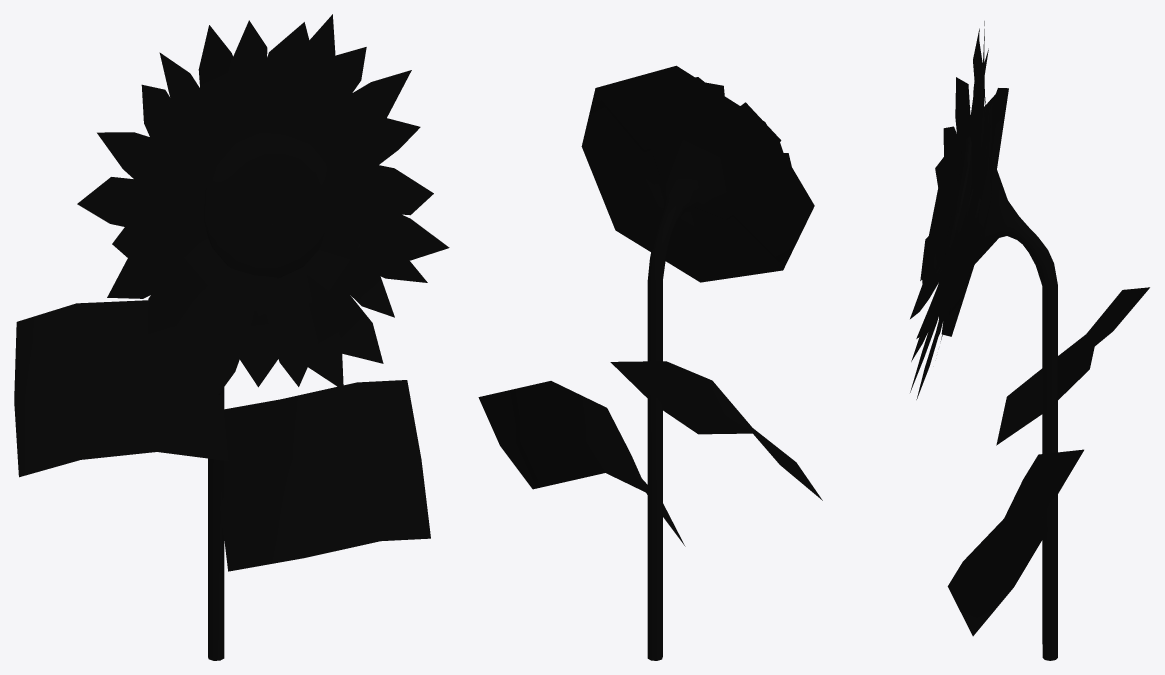
File: modele.glb
3 renders of one model, left to right at view 1: azimuth 30°, elevation 25°; view 2: azimuth 150°, elevation 25°; view 3: azimuth 270°, elevation 25°, orthographic. The views are drawn at different scales.
Visible parts, largest first — view 1: Sunflower_0; view 2: Sunflower_0; view 3: Sunflower_0.
Part boxes in pixels (<box>): Sunflower_0: <box>14,14,449,660</box>; Sunflower_0: <box>478,65,822,660</box>; Sunflower_0: <box>910,21,1149,660</box>.
Size of the model in its own units: 0.1855 by 0.3124 by 0.1104.
1 material, 1 textured.
